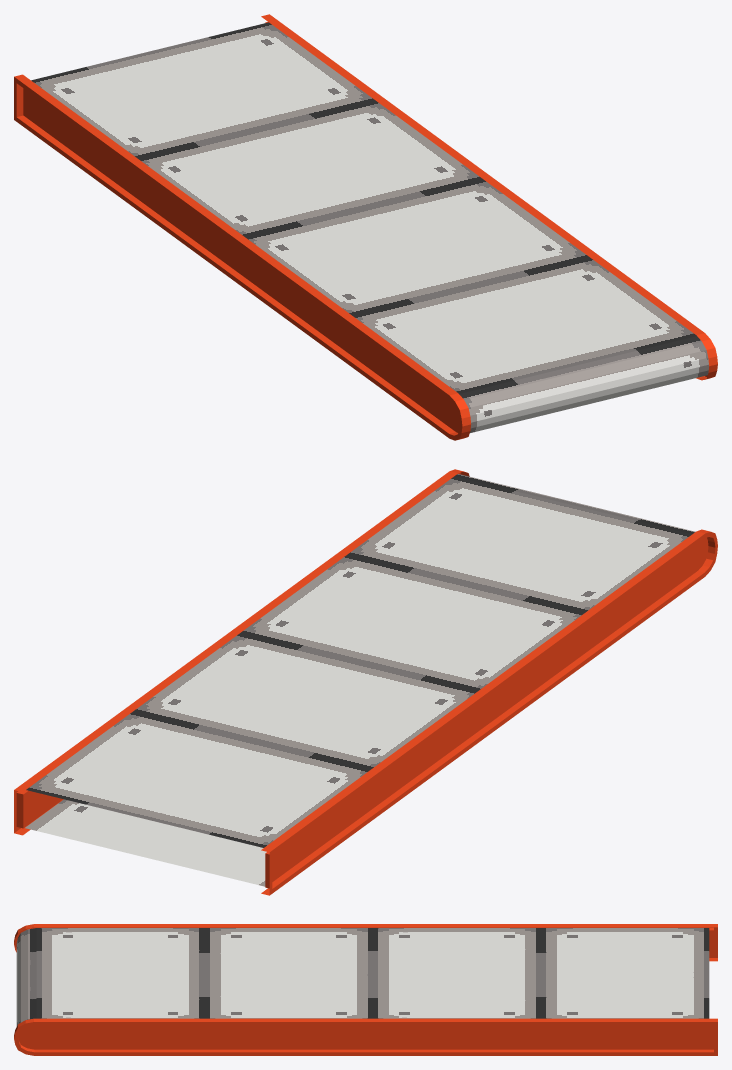
The model's file is Belt.fbx.
3 views of the same model, one above another, from view 1: azimuth 30°, elevation 25°; view 2: azimuth 150°, elevation 25°; view 3: azimuth 270°, elevation 25° (orthographic). The views are drawn at different scales.
Visible parts, largest first — view 1: Belt; view 2: Belt; view 3: Belt.
Boxes of the visible parts, <box> form: Belt: <box>14,14,717,440</box>; Belt: <box>14,469,717,895</box>; Belt: <box>14,924,717,1055</box>.
Size of the model in its own units: 139 by 424 by 22.57.
